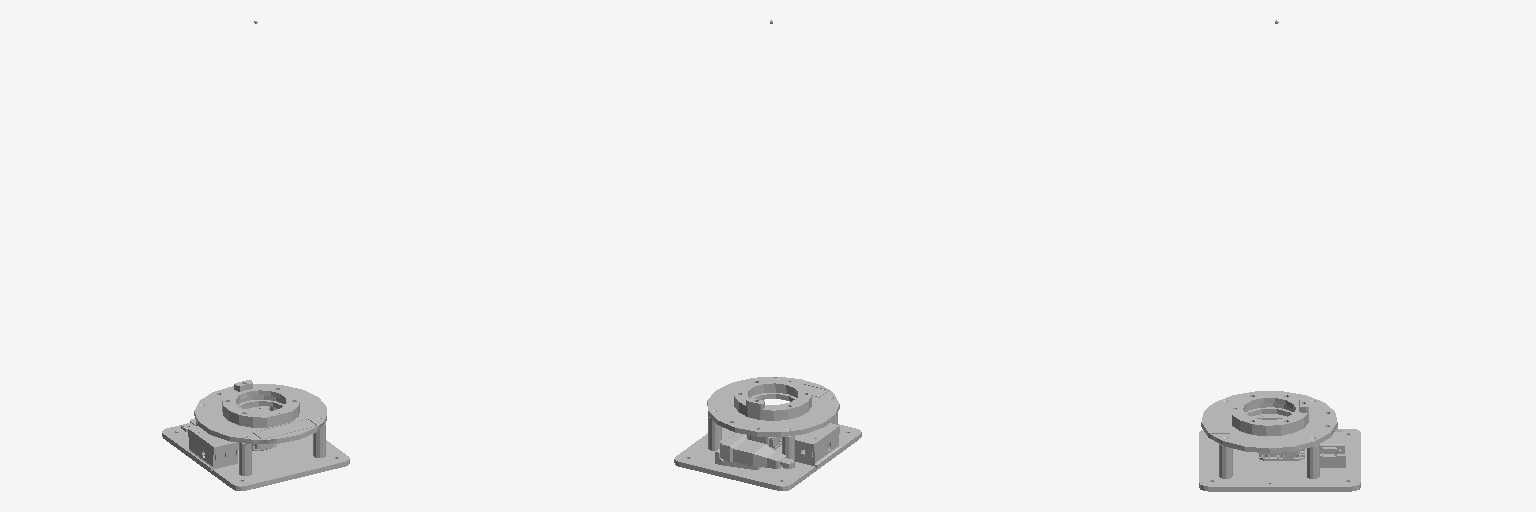
robot.urdf — cyton_gamma_300:
<?xml version="1.0" ?>

<robot name="cyton_gamma_300" xmlns:xacro="http://www.ros.org/wiki/xacro">
  <!-- Initial footprint motor used here -->
  <link name="base_footprint">
    <visual>
      <origin rpy="0 0 0" xyz="0 0 0"/>
      <geometry>
        <sphere radius="0.001"/>
      </geometry>
      <material name="white">
        <color rgba="1 1 1 1"/>
      </material>
    </visual>
  </link>

  <joint name="base_joint" type="fixed">
    <parent link="base_footprint"/>
    <child link="base_link"/>
    <origin rpy="0 0 0" xyz="0.0 0.0 0.0"/>
  </joint>
  <!-- Base of robot here -->
  <link name="base_link">
    <visual>
      <origin rpy="0 0 0" xyz="0 0 0"/>
      <geometry>
        <mesh filename="package://cyton_gamma_300_description/meshes/gamma_base.dae"/>
      </geometry>
    </visual>
    <collision>
      <origin xyz="0 0.0115 0.047"/>
      <geometry>
        <box size="0.154 0.177 0.094"/>
      </geometry>
    </collision>

    <inertial>
      <mass value="100.0"/>
      <origin rpy="0 0 0" xyz="0 0 0"/>
      <inertia ixx="1.1027" iyy="1.1027" izz="1.1027"
                ixy="0" ixz="0" iyz="0"/>
    </inertial>

  </link>



  <!-- First motor located here -->
  <joint name="joint1" type="revolute">
    <parent link="base_link"/>
    <child link="joint1"/>
    <origin rpy="0 0 0" xyz="0 0 0.05315"/>
    <limit effort="100.0" lower="-2.618" upper="2.618" velocity="1.0"/>
    <axis xyz="0 0 1"/>
  </joint>
  <link name="joint1">
    <visual>
      <origin rpy="1.5708 0 3.14159" xyz="0 0 0"/>
      <geometry>
        <mesh filename="package://cyton_gamma_300_description/meshes/joint1.dae"/>
      </geometry>
    </visual>
    <collision>
      <origin xyz="0.0 0.069 0.0587"/>
      <geometry>
        <box size="0.09829 0.18143 0.08392"/>
      </geometry>
    </collision>

    <inertial>
      <mass value="50.0"/>
      <origin rpy="0 0 0" xyz="0 0 0"/>
      <inertia ixx=".1027" iyy=".1027" izz=".1027"
                ixy="0" ixz="0" iyz="0"/>
    </inertial>

  </link>

  <transmission name="tran1">
    <type>transmission_interface/SimpleTransmission</type>
    <joint name="joint1">
      <hardwareInterface>PositionJointInterface</hardwareInterface>
    </joint>
    <actuator name="motor1">
      <hardwareInterface>PositionJointInterface</hardwareInterface>
    </actuator>
  </transmission>

  <!-- Second motor located here -->
  <joint name="joint2" type="revolute">
    <parent link="joint1"/>
    <child link="joint2"/>
    <origin rpy="0 0 0" xyz="0 0 0.063"/>
    <limit effort="100.0" lower="-1.8326" upper="1.8326" velocity="1.0"/>
    <axis xyz="1 0 0"/>
  </joint>
  <link name="joint2">
    <visual>
      <origin rpy="0 1.5708 0" xyz="0.028 0 0"/>
      <geometry>
        <mesh filename="package://cyton_gamma_300_description/meshes/joint2.dae"/>
      </geometry>
    </visual>
    <collision>
      <origin xyz="-0.001 0.064 0.1745"/>
      <geometry>
        <box size="0.0709 0.19363 0.083"/>
      </geometry>
    </collision>

    <inertial>
      <mass value="20.0"/>
      <origin rpy="0 0 0" xyz="0 0 0"/>
      <inertia ixx=".0827" iyy=".0827" izz=".0827"
                ixy="0" ixz="0" iyz="0"/>
    </inertial>

  </link>

  <transmission name="tran2">
    <type>transmission_interface/SimpleTransmission</type>
    <joint name="joint2">
      <hardwareInterface>PositionJointInterface</hardwareInterface>
    </joint>
    <actuator name="motor2">
      <hardwareInterface>PositionJointInterface</hardwareInterface>
    </actuator>
  </transmission>

  <!-- Third motor located here -->
  <joint name="joint3" type="revolute">
    <parent link="joint2"/>
    <child link="joint3"/>
    <origin rpy="0 0 0" xyz="0 0 0.089"/>
    <limit effort="100.0" lower="-1.8326" upper="1.8326" velocity="1.0"/>
    <axis xyz="0 0 1"/>
  </joint>
  <link name="joint3">
    <visual>
      <origin rpy="0 0 3.92699" xyz="0 0 0"/>
      <geometry>
        <mesh filename="package://cyton_gamma_300_description/meshes/joint3.dae"/>
      </geometry>
    </visual>
    <collision>
      <origin xyz="-0.0225 0.039 0.3068"/>
      <geometry>
        <box size="0.0717 0.1846 0.0756"/>
      </geometry>
    </collision>

    <inertial>
      <mass value="10.0"/>
      <origin rpy="0 0 0" xyz="0 0 0"/>
      <inertia ixx=".0627" iyy=".0627" izz=".0627"
                ixy="0" ixz="0" iyz="0"/>
    </inertial>

  </link>


  <transmission name="tran3">
    <type>transmission_interface/SimpleTransmission</type>
    <joint name="joint3">
      <hardwareInterface>PositionJointInterface</hardwareInterface>
    </joint>
    <actuator name="motor3">
      <hardwareInterface>PositionJointInterface</hardwareInterface>
    </actuator>
  </transmission>



  <!-- Fourth motor located here -->
  <joint name="joint4" type="revolute">
    <parent link="joint3"/>
    <child link="joint4"/>
    <origin rpy="0 0 0" xyz="0 0 0.052"/>
    <limit effort="100.0" lower="-1.8326" upper="1.8326" velocity="1.0"/>
    <axis xyz="1 0 0"/>
  </joint>
  <link name="joint4">
    <visual>
      <!-- Not sure if this is the correct orientation. -->
      <origin rpy="1.5708 0 1.5708" xyz="0.027 0 0"/>
      <geometry>
        <mesh filename="package://cyton_gamma_300_description/meshes/joint4.dae"/>
      </geometry>
    </visual>
    <collision>
      <origin xyz="0.0346 0.0461 0.4228"/>
      <geometry>
        <box size="0.0549 0.1557 0.076"/>
      </geometry>
    </collision>

    <inertial>
      <mass value="10.0"/>
      <origin rpy="0 0 0" xyz="0 0 0"/>
      <inertia ixx=".0327" iyy=".0327" izz=".0327"
                ixy="0" ixz="0" iyz="0"/>
    </inertial>

  </link>


  <transmission name="tran4">
    <type>transmission_interface/SimpleTransmission</type>
    <joint name="joint4">
      <hardwareInterface>PositionJointInterface</hardwareInterface>
    </joint>
    <actuator name="motor4">
      <hardwareInterface>PositionJointInterface</hardwareInterface>
    </actuator>
  </transmission>


  <!-- Fifth motor located here -->
  <joint name="joint5" type="revolute">
    <parent link="joint4"/>
    <child link="joint5"/>
    <origin rpy="0 0 0" xyz="0 0 0.072"/>
    <limit effort="100.0" lower="-1.8326" upper="1.8326" velocity="1.0"/>
    <axis xyz="0 -1 0"/>
  </joint>
  <link name="joint5">
    <visual>
      <origin rpy="1.5708 0 0" xyz="0 0 0"/>
      <geometry>
        <mesh filename="package://cyton_gamma_300_description/meshes/joint5.dae"/>
      </geometry>
    </visual>
    <collision>
      <origin xyz="0.0172 0.0209 0.516"/>
      <geometry>
        <box size="0.0535 0.1160 0.0402"/>
      </geometry>
    </collision>

    <inertial>
      <mass value="10.0"/>
      <origin rpy="0 0 0" xyz="0 0 0"/>
      <inertia ixx=".0227" iyy=".0227" izz=".0227"
                ixy="0" ixz="0" iyz="0"/>
    </inertial>

  </link>

  <transmission name="tran5">
    <type>transmission_interface/SimpleTransmission</type>
    <joint name="joint5">
      <hardwareInterface>PositionJointInterface</hardwareInterface>
    </joint>
    <actuator name="motor5">
      <hardwareInterface>PositionJointInterface</hardwareInterface>
    </actuator>
  </transmission>


  <!-- Sixth motor located here -->
  <joint name="joint7" type="revolute">
    <parent link="joint5"/>
    <child link="joint7"/>
    <origin rpy="0 0 0" xyz="0 0 0.0718"/>
    <limit effort="100.0" lower="-1.8326" upper="1.8326" velocity="1.0"/>
    <axis xyz="1 0 0"/>
  </joint>
  <link name="joint7">
    <visual>
      <origin rpy="1.5708 0 1.5708" xyz="0.027 0 0"/>
      <geometry>
        <mesh filename="package://cyton_gamma_300_description/meshes/joint7.dae"/>
      </geometry>
    </visual>
    <collision>
      <origin xyz="0.0257 0.0118 0.5617"/>
      <geometry>
        <box size="0.026 0.0435 0.05185"/>
      </geometry>
    </collision>

    <inertial>
      <mass value="10.0"/>
      <origin rpy="0 0 0" xyz="0 0 0"/>
      <inertia ixx=".0127" iyy=".0127" izz=".0127"
                ixy="0" ixz="0" iyz="0"/>
    </inertial>

  </link>


  <transmission name="tran6">
    <type>transmission_interface/SimpleTransmission</type>
    <joint name="joint7">
      <hardwareInterface>PositionJointInterface</hardwareInterface>
    </joint>
    <actuator name="motor6">
      <hardwareInterface>PositionJointInterface</hardwareInterface>
    </actuator>
  </transmission>



  <!-- Seventh motor located here -->
  <joint name="joint6" type="revolute">
    <parent link="joint7"/>
    <child link="joint6"/>
    <origin rpy="0 0 0" xyz="0 0 0.051425"/>
    <limit effort="100.0" lower="-2.61799" upper="2.61799" velocity="1.0"/>
    <axis xyz="0 0 1"/>
  </joint>
  <link name="joint6">
    <visual>
      <origin rpy="0 3.14159 1.5708" xyz="0 0 0"/>
      <geometry>
        <mesh filename="package://cyton_gamma_300_description/meshes/joint6.dae"/>
      </geometry>
    </visual>
    <collision>
      <origin xyz="-0.0063 -0.0014 0.6102"/>
      <geometry>
        <box size="0.0518 0.0723 0.1004"/>
      </geometry>
    </collision>

    <inertial>
      <mass value="10.0"/>
      <origin rpy="0 0 0" xyz="0 0 0"/>
      <inertia ixx=".0027" iyy=".0027" izz=".0027"
                ixy="0" ixz="0" iyz="0"/>
    </inertial>

  </link>

  <transmission name="tran7">
    <type>transmission_interface/SimpleTransmission</type>
    <joint name="joint6">
      <hardwareInterface>PositionJointInterface</hardwareInterface>
    </joint>
    <actuator name="motor7">
      <hardwareInterface>PositionJointInterface</hardwareInterface>
    </actuator>
  </transmission>

  <gazebo>
    <plugin name="gazebo_ros_control" filename="libgazebo_ros_control.so"/>
  </gazebo>
  <gazebo>
    <plugin name="joint_state_publisher"
            filename="libgazebo_ros_joint_state_publisher.so">
      <jointName>joint1, joint2, joint3, joint4, joint5, joint7, joint6</jointName>
    </plugin>
  </gazebo>


  <!-- virtual end-effector -->
  <joint name="virtual_endeffector_joint" type="fixed">
    <parent link="joint6"/>
    <child link="virtual_endeffector"/>
    <origin rpy="0 0 0" xyz="-0.002316 0.0079 0.079425"/>
  </joint>
  <link name="virtual_endeffector">
    <visual>
        <!-- places the point to plan for in middle of wrist roll -->
        <!-- xyz should be offest by gripper size if center -->
        <!-- of gripper is desired -->
      <origin rpy="0 0 0" xyz="0 0 0"/>
      <geometry>
        <sphere radius="0.002"/>
      </geometry>
      <material name="grey">
        <color rgba="0.7 0.7 0.7 0.8"/>
      </material>
    </visual>
  </link>
</robot>

--- Facts derived from the render (not from the file) ---
3 views of the same robot in one strip: view 1: azimuth 30°, elevation 25°; view 2: azimuth 150°, elevation 25°; view 3: azimuth 270°, elevation 25° (orthographic).
Robot: cyton_gamma_300 — 10 links, 9 joints (7 revolute, 2 fixed); root link base_footprint; default pose: all joints at 0.
Links seen in each view (by area): view 1: base_link; view 2: base_link; view 3: base_link.
Link boxes in pixels (bbox=[...]): base_link: bbox=[162, 380, 349, 490]; base_link: bbox=[674, 377, 861, 490]; base_link: bbox=[1199, 391, 1360, 491].
Size in the robot's own frame: 0.152 by 0.177 by 0.5348 metres.
Meshes: 8 distinct files referenced, 1 mesh visuals loaded (1 Collada DAE); not drawn: 7 (reference not matched to a file when rendering).